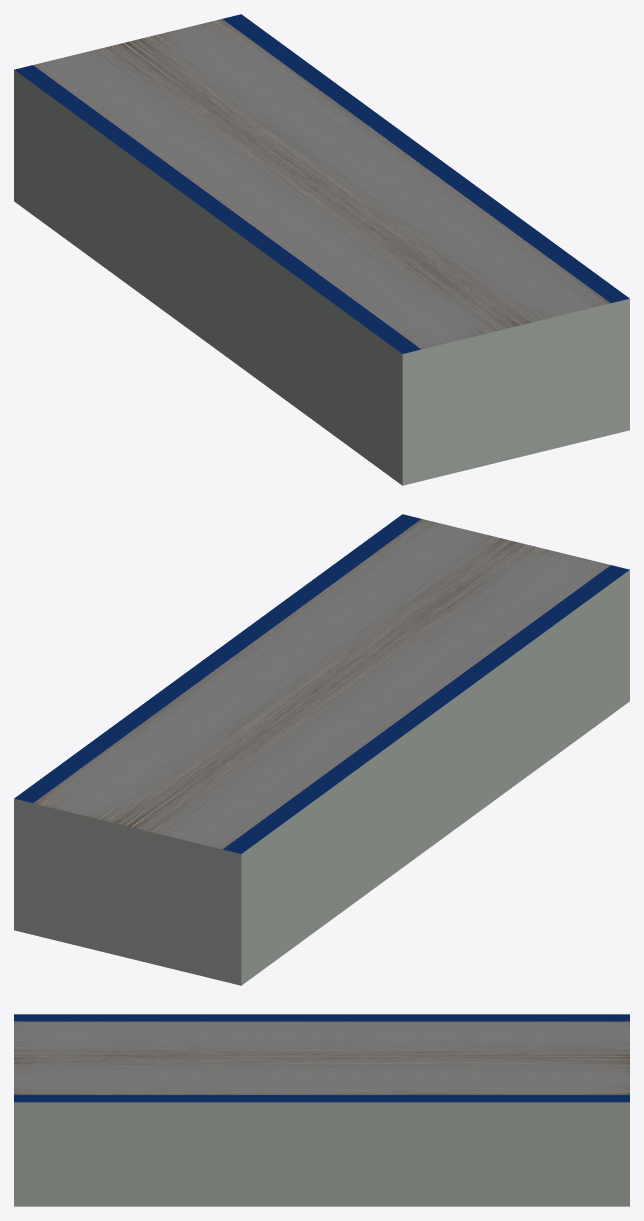
File: dgu-pa-Conveyor5.glb
3 views of the same model, one above another, from view 1: azimuth 30°, elevation 25°; view 2: azimuth 150°, elevation 25°; view 3: azimuth 270°, elevation 25° (orthographic). The views are drawn at different scales.
Visible parts, largest first — view 1: dgu-pa-Conveyor5; view 2: dgu-pa-Conveyor5; view 3: dgu-pa-Conveyor5.
Part boxes in pixels (x1,y1,x2,y2): dgu-pa-Conveyor5: (14,14,629,485); dgu-pa-Conveyor5: (14,514,629,985); dgu-pa-Conveyor5: (14,1014,629,1206).
Bounding box in the file's own units: 0.544 × 0.301 × 1.61.
1 material, 1 textured.
